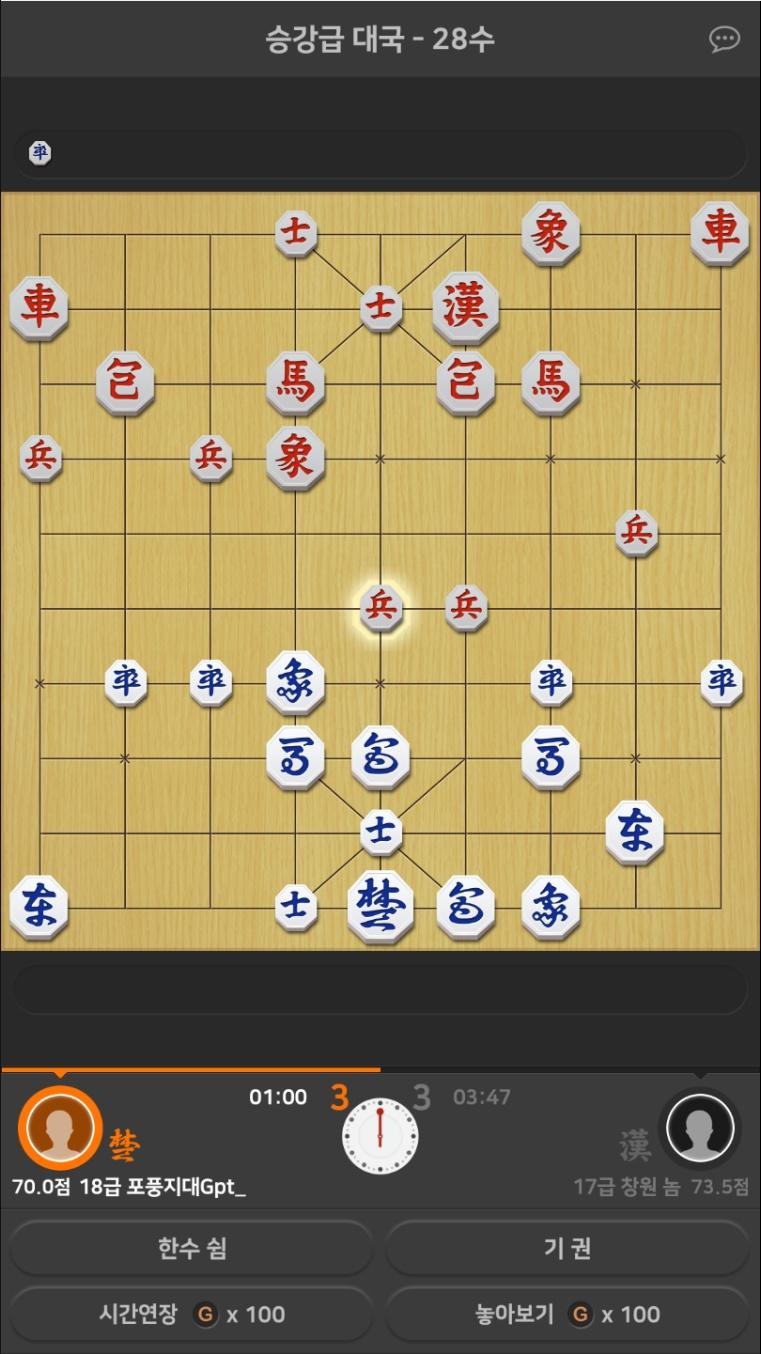cha_green: (8, 874, 72, 934), (607, 800, 664, 863)
cha_red: (691, 198, 752, 269), (9, 276, 68, 339)
jol_green: (187, 657, 233, 709), (699, 659, 744, 708), (530, 657, 572, 706), (104, 659, 146, 705)
jol_red: (615, 509, 660, 557), (360, 583, 405, 631), (191, 435, 232, 485), (21, 435, 62, 485), (446, 586, 487, 632)
ma_green: (522, 724, 582, 788), (266, 726, 325, 790)
ma_red: (523, 352, 582, 416), (267, 351, 322, 415)
po_green: (350, 727, 409, 791), (438, 877, 494, 942)
po_red: (96, 350, 157, 416), (438, 350, 497, 416)
sa_green: (274, 884, 317, 932), (359, 810, 403, 854)
sa_red: (362, 285, 402, 333), (276, 210, 316, 257)
sang_green: (266, 647, 327, 720), (523, 874, 580, 940)
sang_red: (266, 427, 327, 492), (519, 203, 581, 261)
wang_green: (348, 873, 414, 945)
wang_red: (431, 274, 497, 337)
